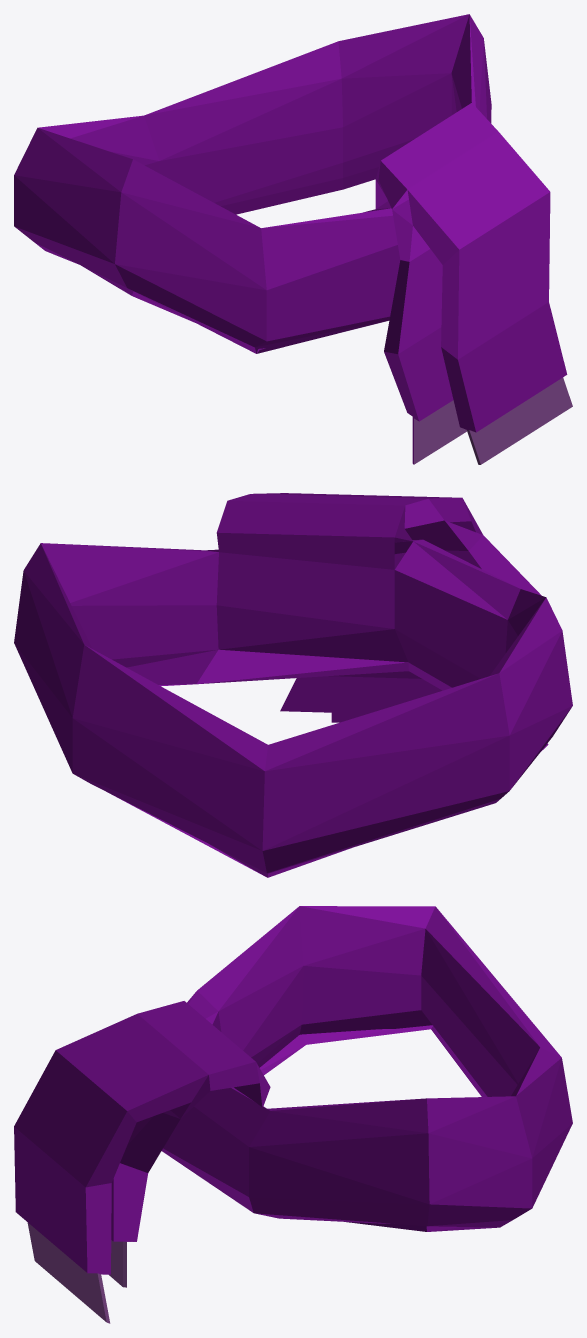
The model's file is corps_echarpe.fbx.
3 views of the same model, one above another, from view 1: azimuth 30°, elevation 25°; view 2: azimuth 150°, elevation 25°; view 3: azimuth 270°, elevation 25° (orthographic). The views are drawn at different scales.
Visible parts, largest first — view 1: Box043; view 2: Box043; view 3: Box043.
Part boxes in pixels (<box>): Box043: <box>14,14,572,464</box>; Box043: <box>14,493,572,877</box>; Box043: <box>14,906,572,1323</box>.
Size of the model in its own units: 56.81 by 30.12 by 60.06.
